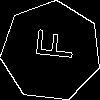F: (26, 26, 75, 62)
